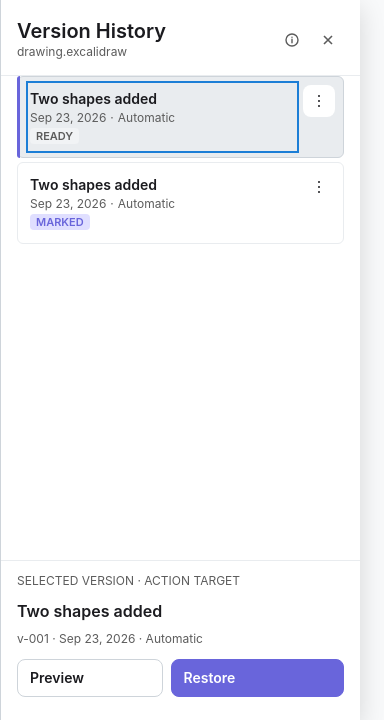
Test: HistoryPanel › binds row feedback to the returned version instead of the selected row
Click the button named "More actions for v-002" at point(319, 187), box [303,171,335,203]
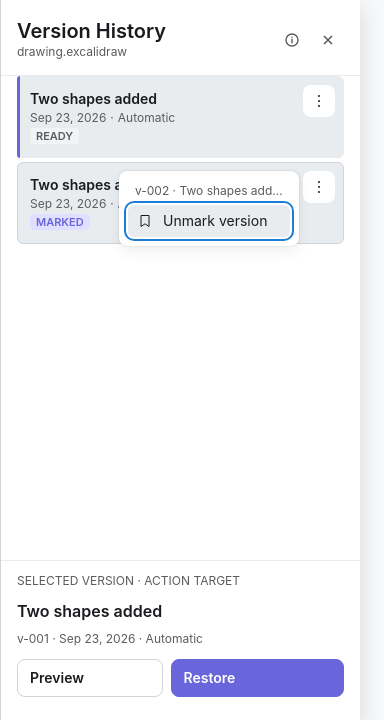
Click the menu item "Unmark version" at point(209, 221), box [128,205,290,237]
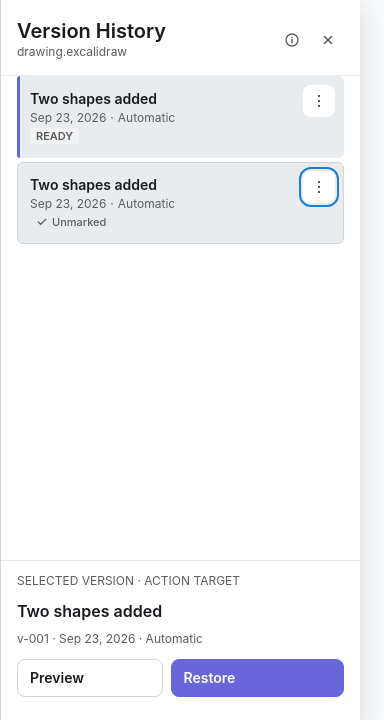
Result: the text "Unmarked" is shown at [30,214,112,230]
